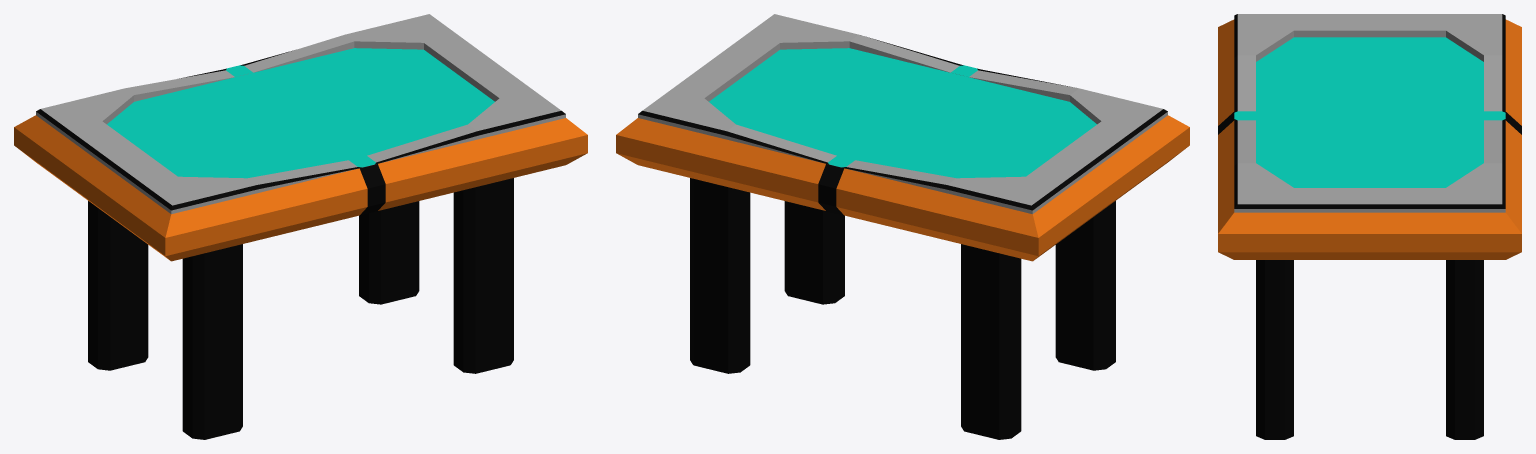
Rendered from Table.fbx.
3 renders of one model, left to right at view 1: azimuth 30°, elevation 25°; view 2: azimuth 150°, elevation 25°; view 3: azimuth 270°, elevation 25°, orthographic.
Parts seen in each view (by area): view 1: Cube; view 2: Cube; view 3: Cube.
Part boxes in pixels (x1,y1,x2,y2): Cube: [14, 14, 587, 439]; Cube: [616, 14, 1189, 439]; Cube: [1218, 14, 1521, 439].
Bounding box in the file's own units: 322 × 183 × 200.
